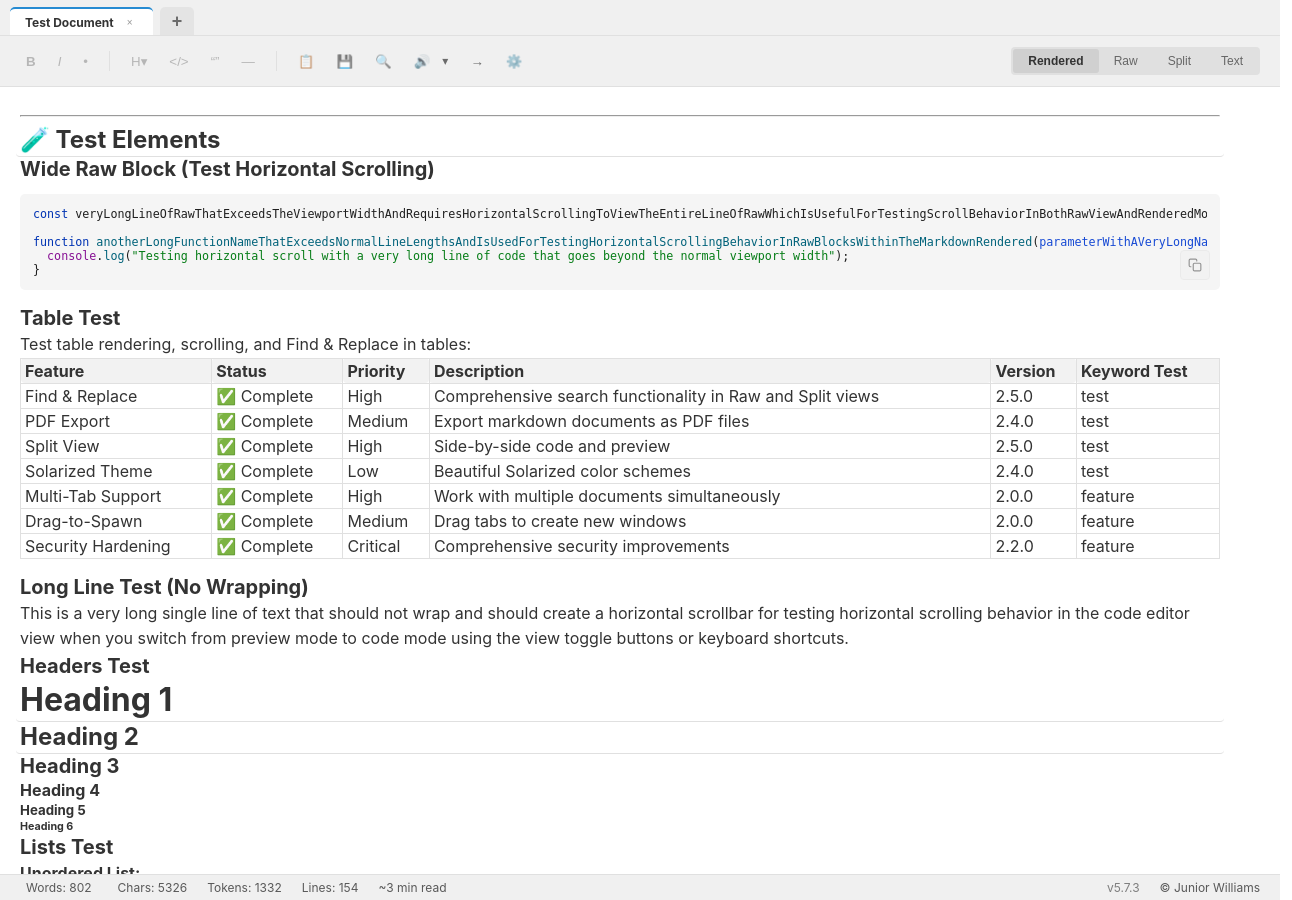
Test: App Integration Tests › Word Count Goal › should open goal input on click
Click the button with aria-label "Word count".
click(59, 888)  # box [20,878,98,897]
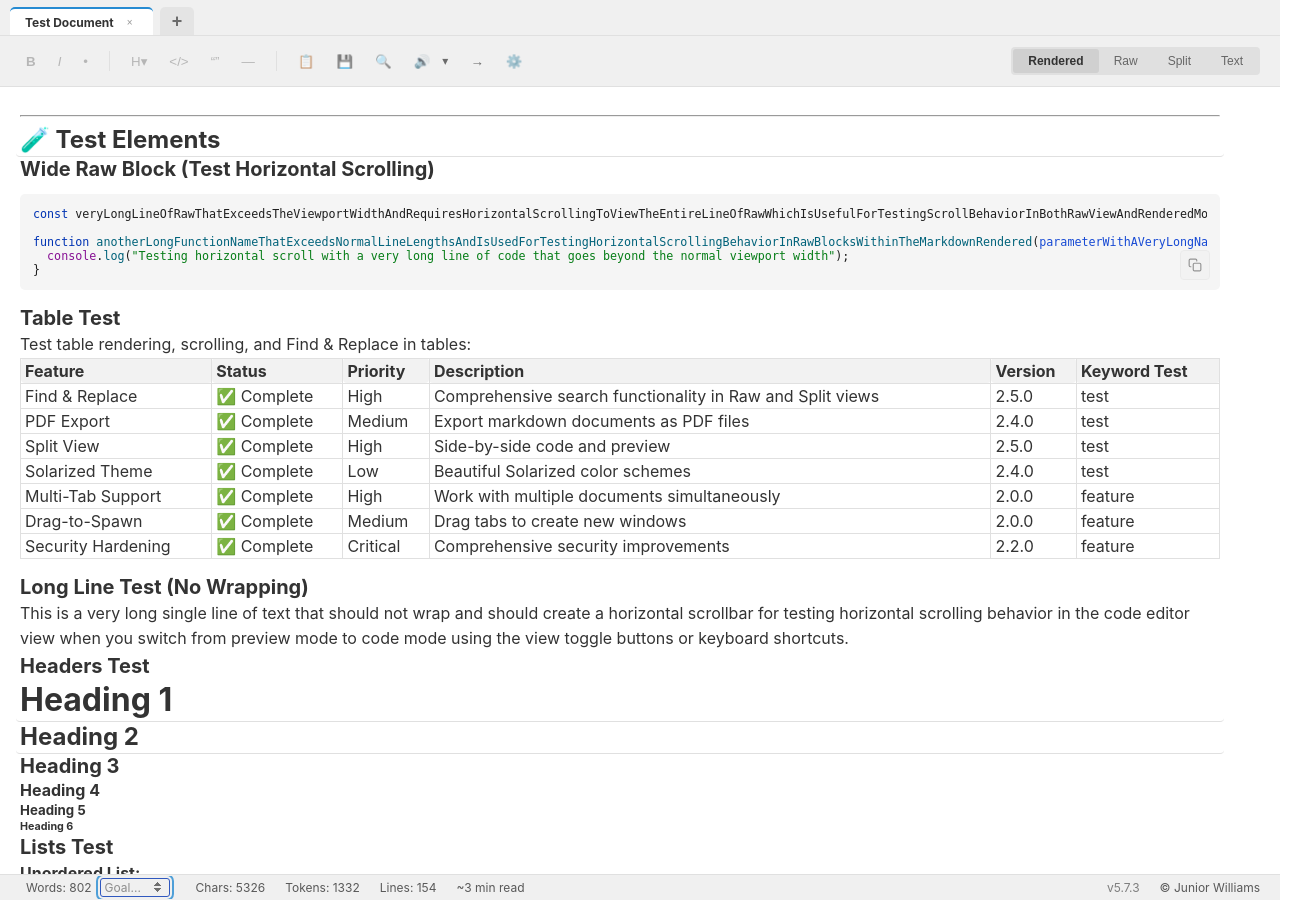
Expected: the number field named "Set word count goal" is shown, [100,878,170,897]
